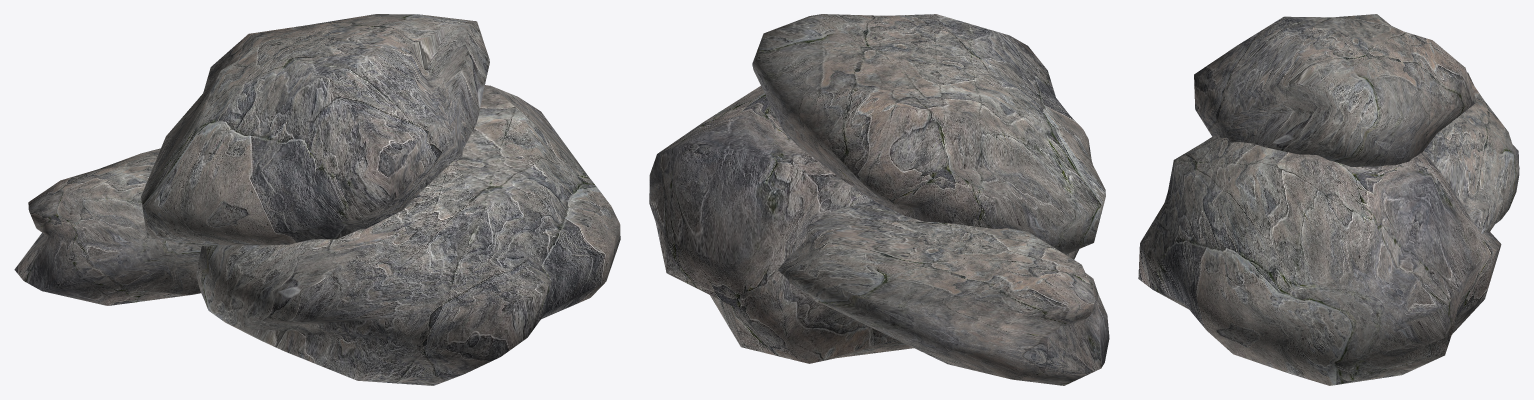
File: rock014.FBX
3 views of the same model, side by side, from view 1: azimuth 30°, elevation 25°; view 2: azimuth 150°, elevation 25°; view 3: azimuth 270°, elevation 25° (orthographic). The views are drawn at different scales.
Parts seen in each view (by area): view 1: rock014; view 2: rock014; view 3: rock014.
Boxes of the visible parts, x1,y1,x2,y2 form: rock014: [14, 14, 620, 385]; rock014: [649, 14, 1109, 385]; rock014: [1138, 14, 1519, 385].
Bounding box in the file's own units: 3801 × 2353 × 2795.
Materials: 1 (1 with a texture image).
